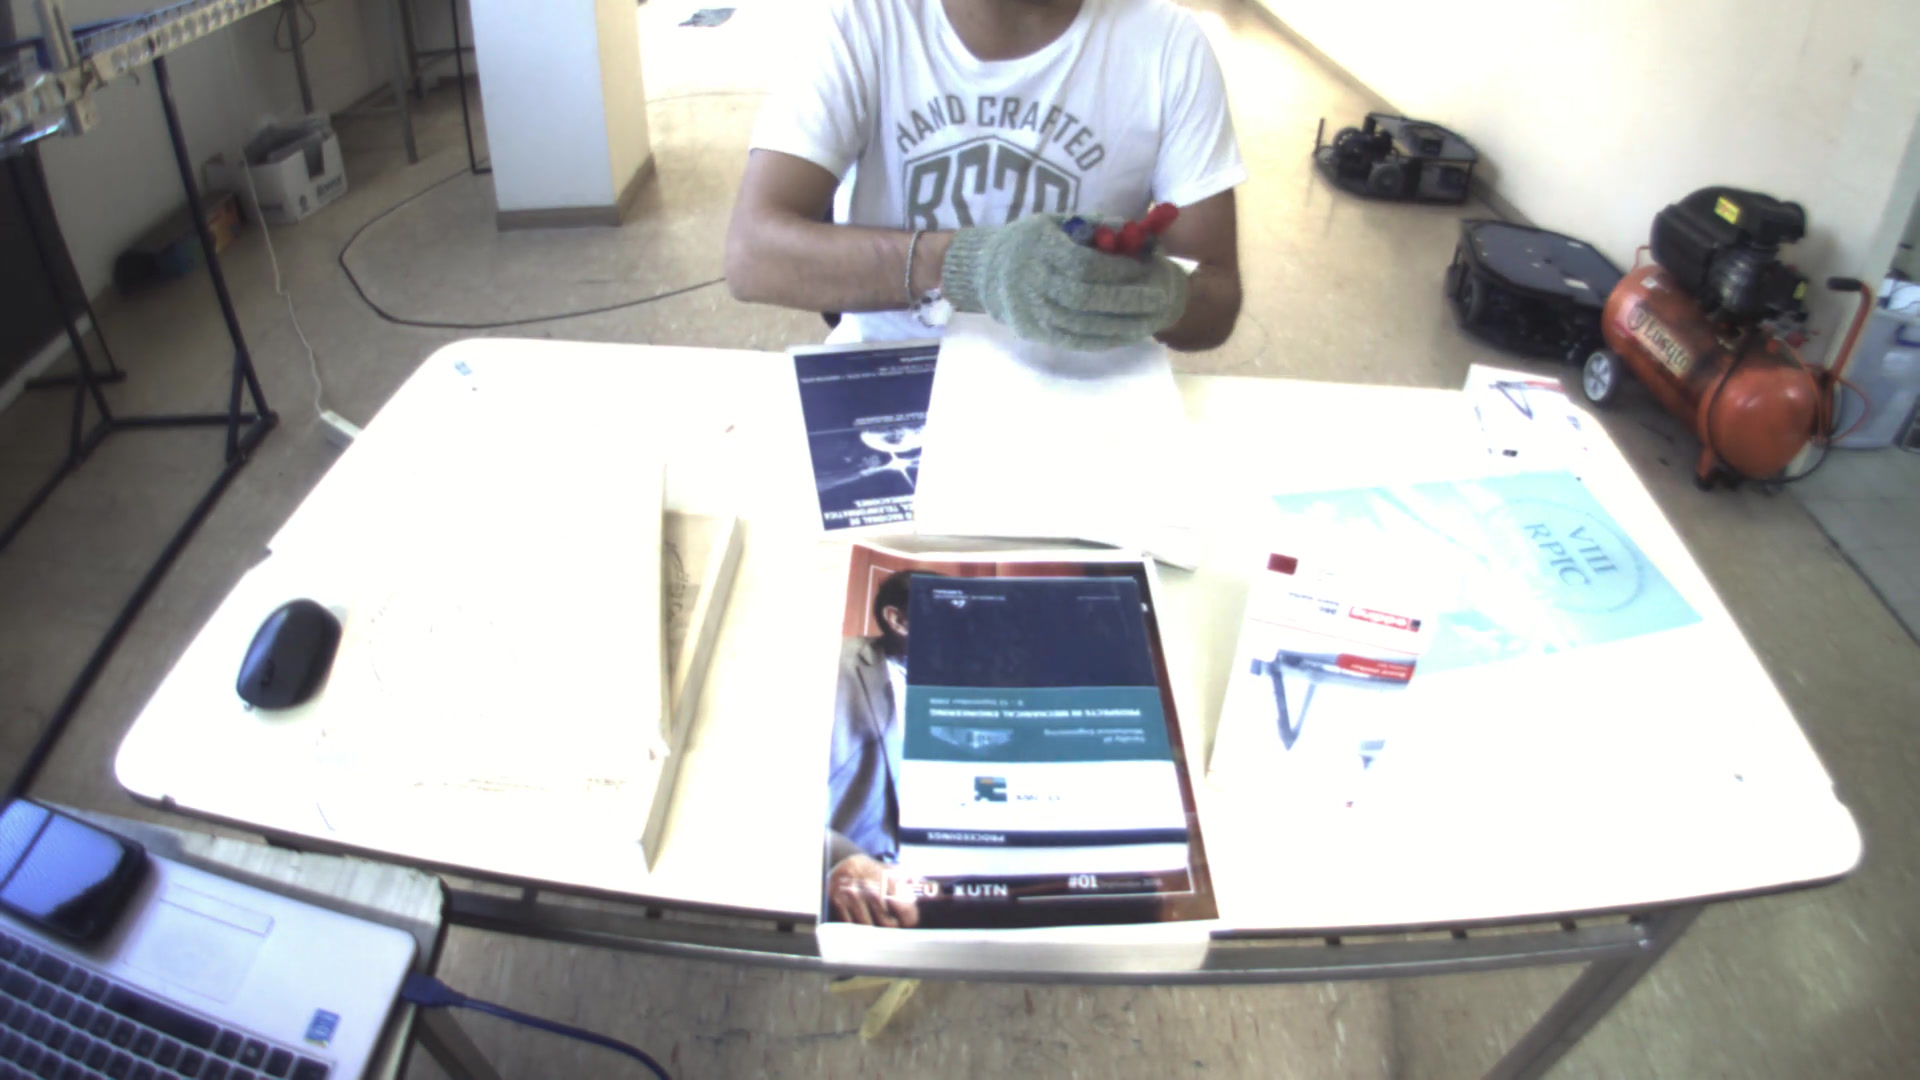hand: (923, 200, 1174, 361)
